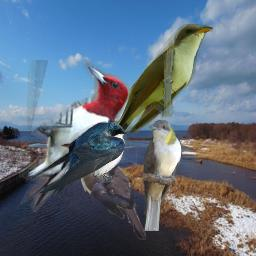Cuckoo: (96, 24, 213, 168), (59, 137, 146, 242), (141, 120, 182, 231)
Swallow: (25, 121, 127, 195)
Woodpecker: (17, 60, 137, 212)
